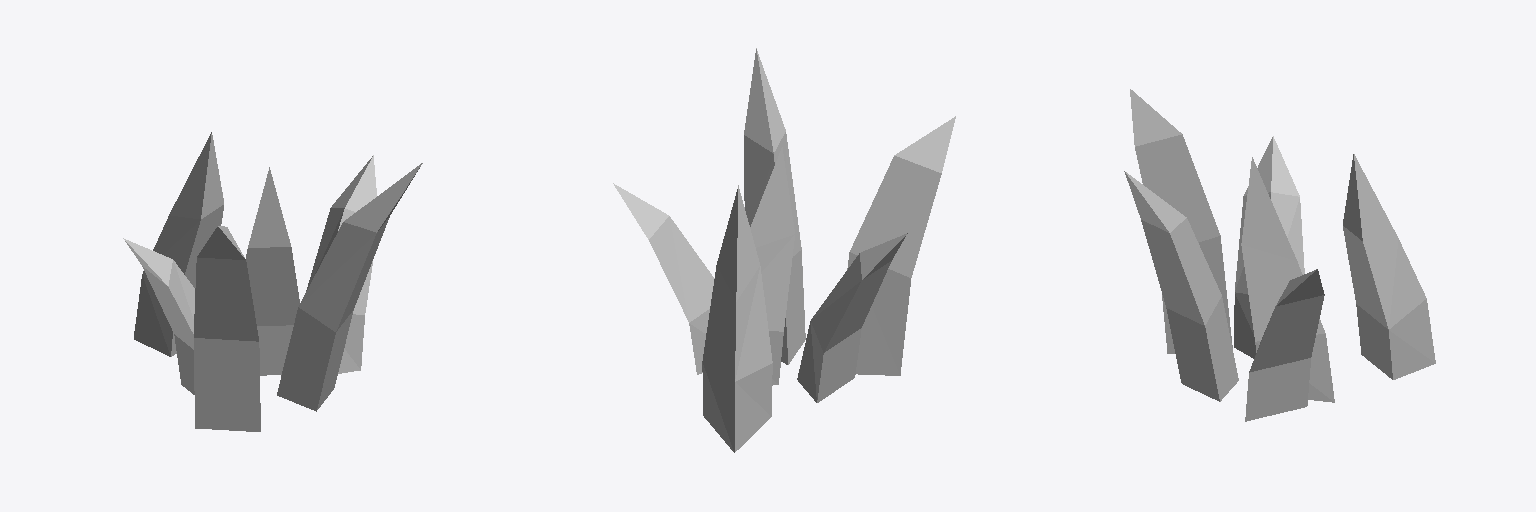
The model's file is GrassBunch4.obj.
3 renders of one model, left to right at view 1: azimuth 30°, elevation 25°; view 2: azimuth 150°, elevation 25°; view 3: azimuth 270°, elevation 25°, orthographic.
Visible parts, largest first — view 1: GrassBunch4_Circle.043; view 2: GrassBunch4_Circle.043; view 3: GrassBunch4_Circle.043.
Part boxes in pixels (left/top/right/bottom): GrassBunch4_Circle.043: left=123, top=132, right=422, bottom=431; GrassBunch4_Circle.043: left=613, top=48, right=955, bottom=452; GrassBunch4_Circle.043: left=1124, top=89, right=1435, bottom=421.
Bounding box in the file's own units: 0.7132 × 0.6461 × 0.7058.